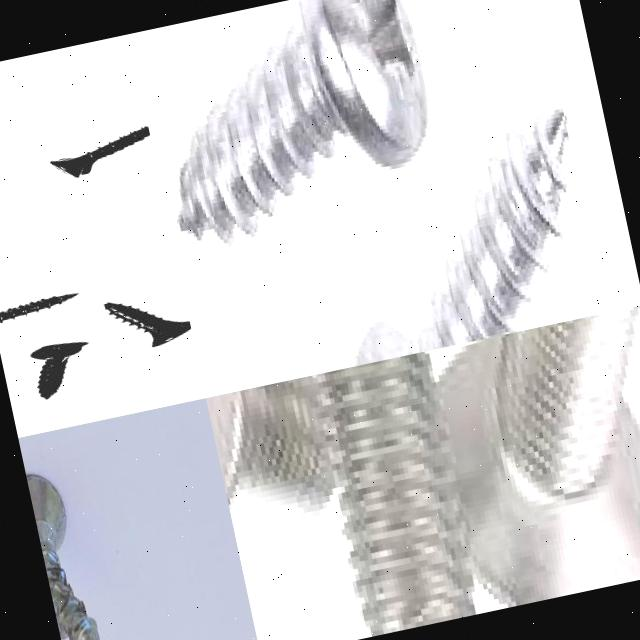Screw: (175, 0, 430, 247), (435, 305, 640, 607), (353, 103, 573, 366), (317, 350, 475, 637), (206, 375, 336, 517), (26, 476, 100, 640), (49, 125, 150, 177), (102, 303, 191, 347), (28, 342, 86, 399), (0, 293, 76, 322)
